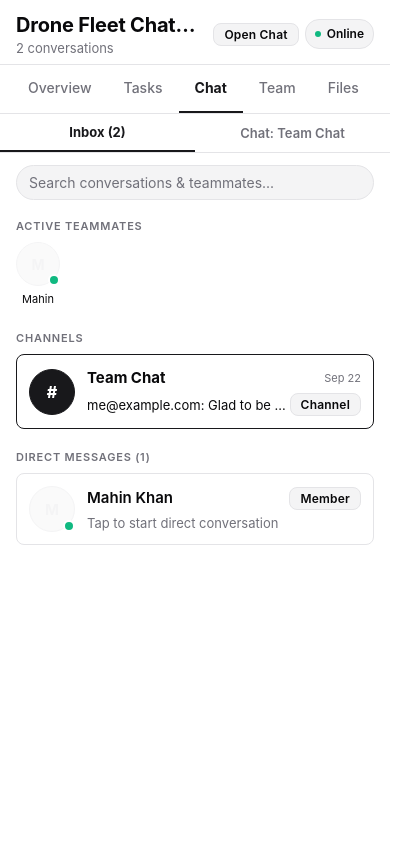
Test: Phase 4 — Team Chat › renders Messenger-style mobile inbox view and switches to chat thread
Expected: the text "CHANNELS" is shown, [16,330,84,346]
Expected: the text "Team Chat" is shown, [87,367,166,389]
// Tap on Mahin Khan in the inbox list to enter direct conversation
Click the text "Mahin Khan" at (130, 498), box [87,487,173,509]
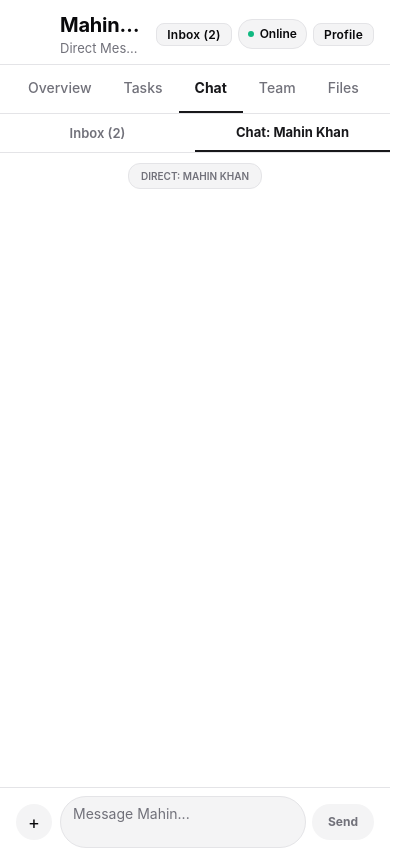
Now the text "Direct Message" is shown, box [60,40,142,56]
Now the text box with placeholder "Message Mahin..." is shown, box [60,796,306,848]
// Press Inbox tab to return to the inbox list
Click the tab with aria-label "Inbox Tab" at (98, 133), box [70,125,125,141]
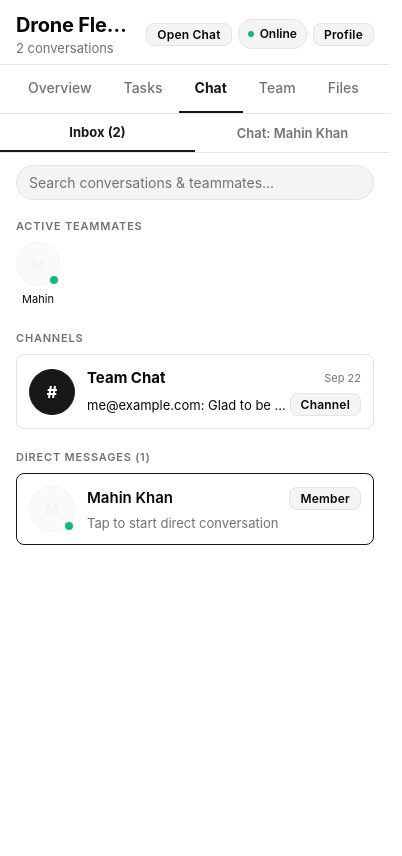
Now the text "CHANNELS" is shown, box [16,330,84,346]
Now the text "Team Chat" is shown, box [87,367,166,389]
